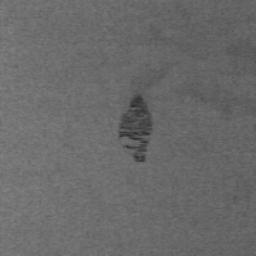Secondary rust skin: (120, 92, 152, 163)
